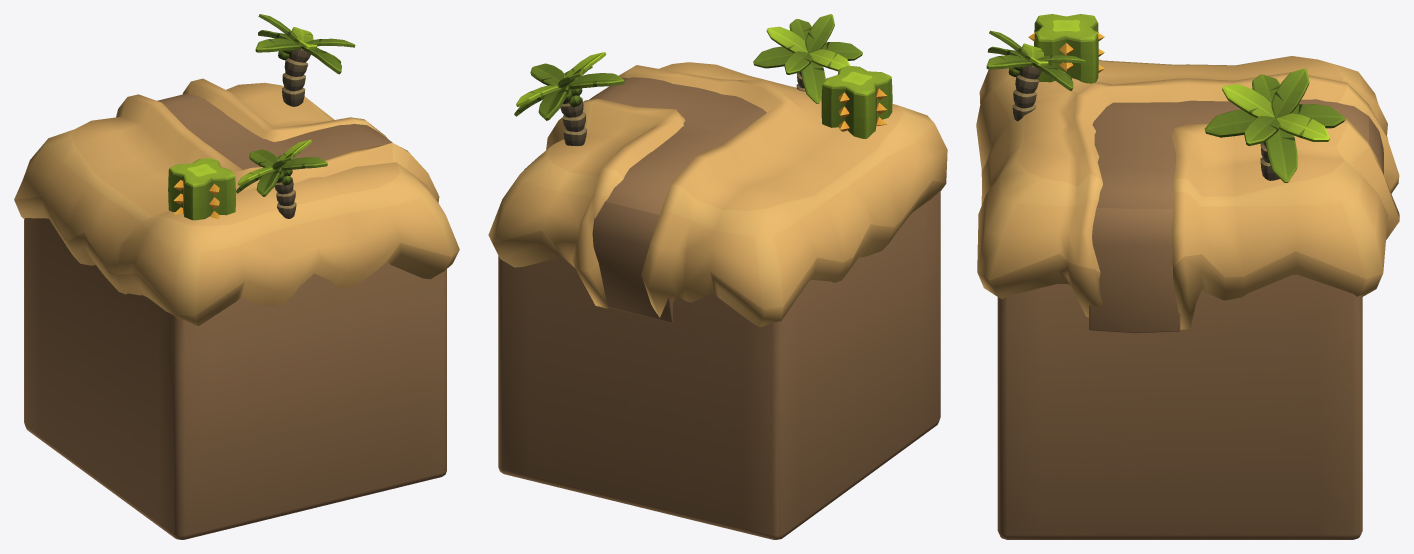
Rendered from Desert4.fbx.
3 renders of one model, left to right at view 1: azimuth 30°, elevation 25°; view 2: azimuth 150°, elevation 25°; view 3: azimuth 270°, elevation 25°, orthographic. The views are drawn at different scales.
Visible parts, largest first — view 1: Desert4, Desert, Desert_Cube_04 .002, Desert4.001; view 2: Desert4, Desert, Desert4.001, Desert_Cube_04 .002; view 3: Desert4, Desert, Desert4.001, Desert_Cube_04 .002.
Boxes of the visible parts, box(x1,y1,x2,y2) form: Desert4: box(24, 218, 446, 539); Desert: box(14, 78, 459, 325); Desert_Cube_04 .002: box(168, 14, 355, 220); Desert4.001: box(157, 93, 392, 169); Desert4: box(498, 191, 940, 539); Desert: box(488, 62, 947, 327); Desert4.001: box(589, 77, 766, 322); Desert_Cube_04 .002: box(514, 14, 892, 145); Desert4: box(997, 274, 1362, 539); Desert: box(976, 56, 1399, 329); Desert4.001: box(1089, 99, 1383, 333); Desert_Cube_04 .002: box(986, 14, 1345, 182).
Size of the model in its own units: 116 by 134 by 116.
